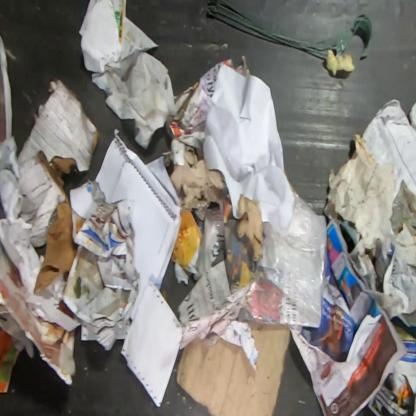cardboard: (15, 78, 102, 296), (175, 319, 291, 415)
rigid_plastic: (205, 0, 374, 61)
soft_plastic: (237, 185, 328, 329)
